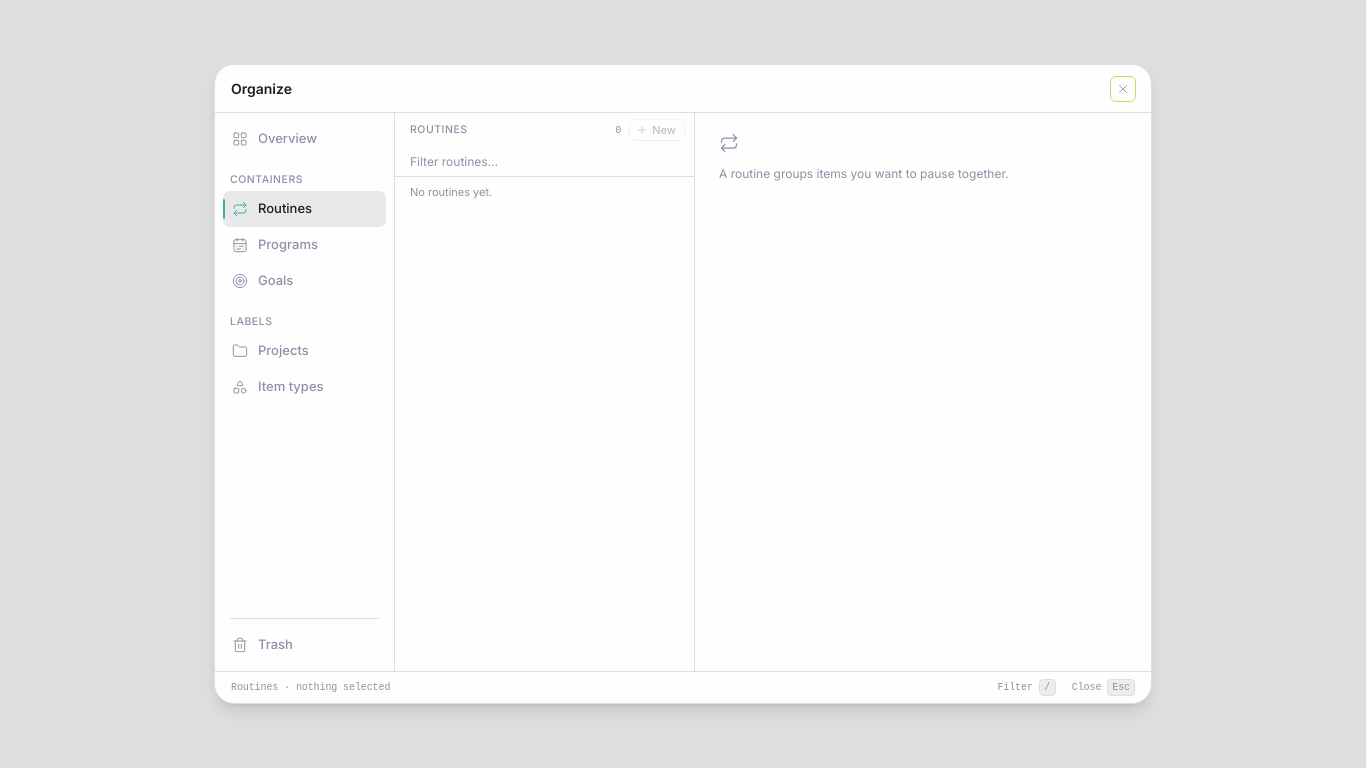
it: the Organize console frame › does not remember the last section a visit ended on
Later steps or results of the test are not shown.
Press the mouse on the tab "Item types": [304, 387] box [223,369,386,405]
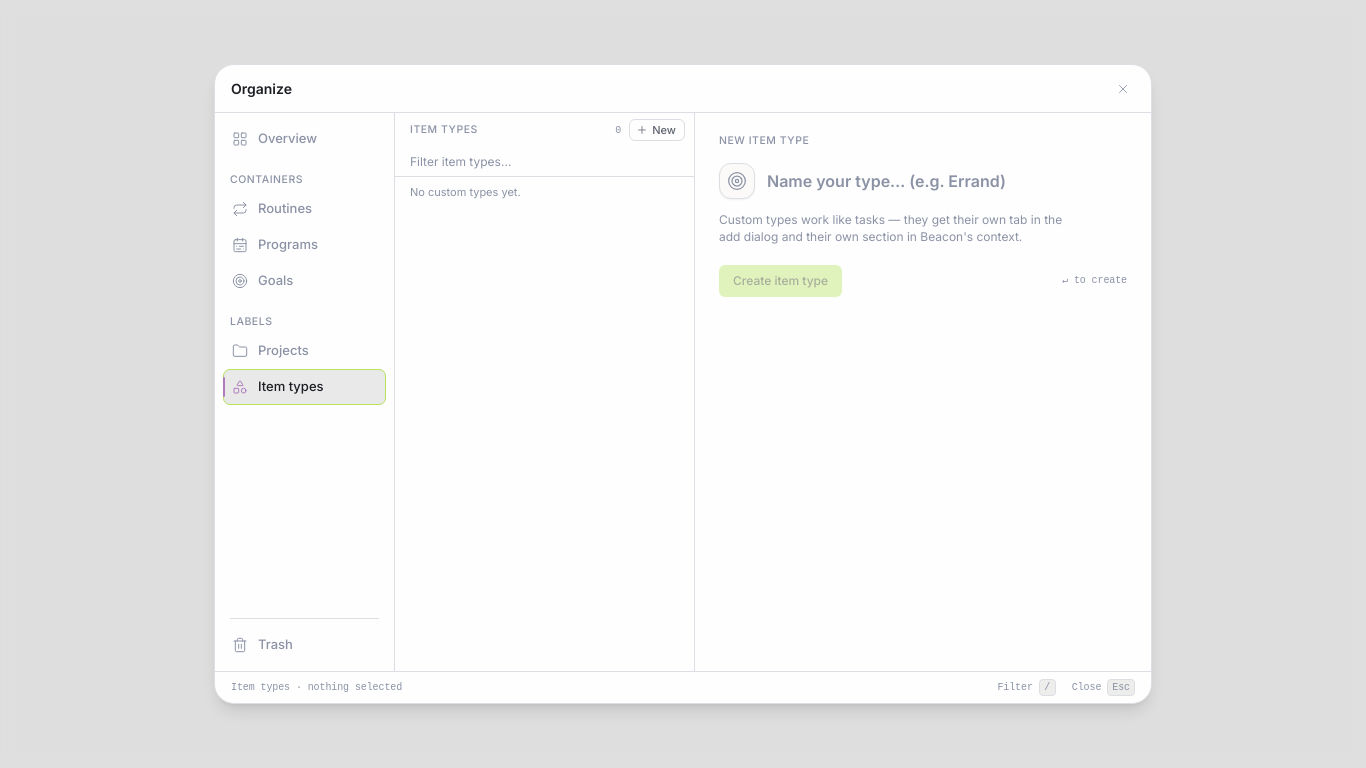
expect the tab "Item types" is selected: met, box [223,369,386,405]
